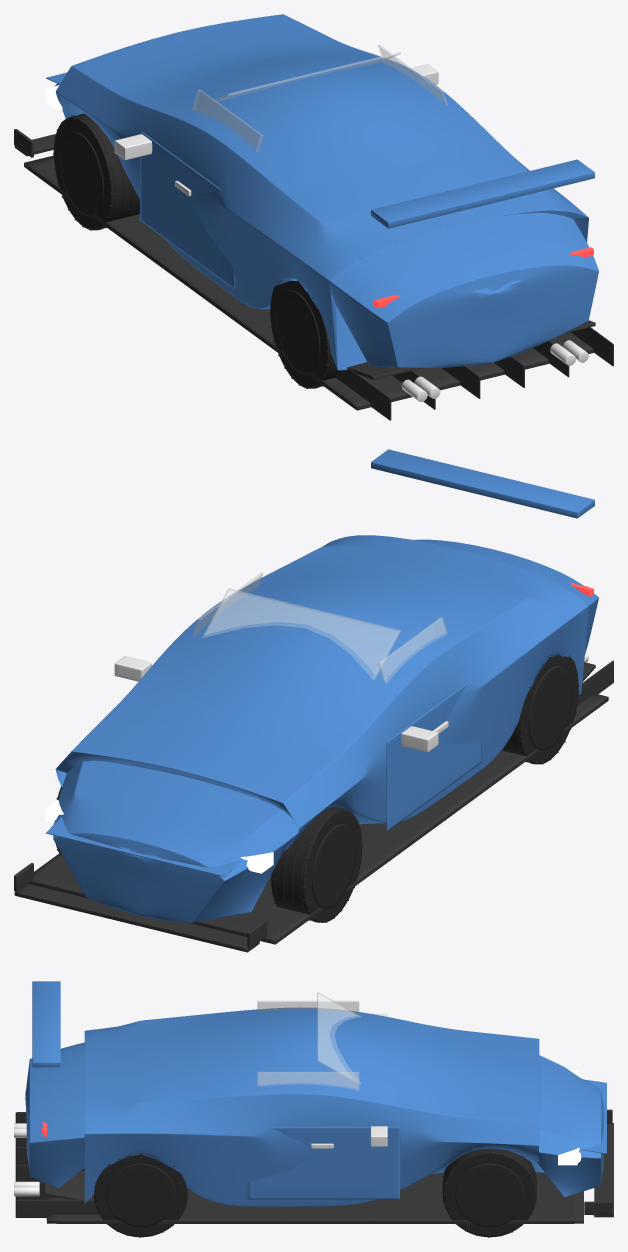
File: vehicle.opt.glb
The picture shows the model from 3 angles, top to bottom: view 1: azimuth 30°, elevation 25°; view 2: azimuth 150°, elevation 25°; view 3: azimuth 270°, elevation 25°; orthographic projection. The views are drawn at different scales.
Visible parts, largest first — view 1: BODY_MainShell, UNDERBODY_FlatFloor, WHEEL_FL_Tire, BODY_Door_FL, AERO_Z3M_RoofSpoiler, WHEEL_RL_Tire, GLASS_Greenhouse, JEWELRY_Z3M_QuadExhaust, JEWELRY_Hardware, AERO_FrontSplitter; view 2: BODY_MainShell, UNDERBODY_FlatFloor, GLASS_Greenhouse, WHEEL_FL_Tire, BODY_Door_FL, AERO_Z3M_RoofSpoiler, WHEEL_RL_Tire, AERO_FrontSplitter, JEWELRY_Hardware, BODY_Hood, LIGHTING_Headlamps; view 3: BODY_MainShell, UNDERBODY_FlatFloor, BODY_Door_FR, WHEEL_FR_Tire, WHEEL_RR_Tire, GLASS_Greenhouse, AERO_Z3M_RoofSpoiler, AERO_FrontSplitter, JEWELRY_Z3M_QuadExhaust, JEWELRY_Hardware, BODY_Hood, LIGHTING_Headlamps.
Boxes of the visible parts, x1,y1,x2,y2 form: BODY_MainShell: [54, 14, 598, 370]; UNDERBODY_FlatFloor: [24, 155, 613, 420]; WHEEL_FL_Tire: [53, 113, 139, 230]; BODY_Door_FL: [140, 130, 235, 289]; AERO_Z3M_RoofSpoiler: [371, 159, 594, 228]; WHEEL_RL_Tire: [269, 280, 338, 388]; GLASS_Greenhouse: [192, 45, 447, 151]; JEWELRY_Z3M_QuadExhaust: [401, 340, 588, 401]; JEWELRY_Hardware: [114, 64, 438, 196]; AERO_FrontSplitter: [14, 129, 55, 157]; BODY_MainShell: [53, 535, 598, 922]; UNDERBODY_FlatFloor: [28, 660, 613, 944]; GLASS_Greenhouse: [192, 572, 447, 683]; WHEEL_FL_Tire: [270, 807, 362, 922]; BODY_Door_FL: [386, 682, 481, 831]; AERO_Z3M_RoofSpoiler: [371, 449, 594, 518]; WHEEL_RL_Tire: [502, 652, 579, 764]; AERO_FrontSplitter: [14, 863, 267, 952]; JEWELRY_Hardware: [114, 656, 448, 752]; BODY_Hood: [46, 817, 240, 876]; LIGHTING_Headlamps: [45, 800, 273, 873]; BODY_MainShell: [25, 1007, 604, 1206]; UNDERBODY_FlatFloor: [15, 1112, 583, 1223]; BODY_Door_FR: [247, 1126, 400, 1199]; WHEEL_FR_Tire: [442, 1148, 536, 1237]; WHEEL_RR_Tire: [93, 1153, 187, 1237]; GLASS_Greenhouse: [257, 992, 361, 1090]; AERO_Z3M_RoofSpoiler: [32, 981, 60, 1067]; AERO_FrontSplitter: [584, 1109, 613, 1217]; JEWELRY_Z3M_QuadExhaust: [14, 1123, 39, 1196]; JEWELRY_Hardware: [311, 1013, 387, 1148]; BODY_Hood: [581, 1079, 606, 1153]; LIGHTING_Headlamps: [558, 1070, 581, 1165].
Size of what is drawn, in the model's own units: 2.06 by 1.3 by 4.23.
